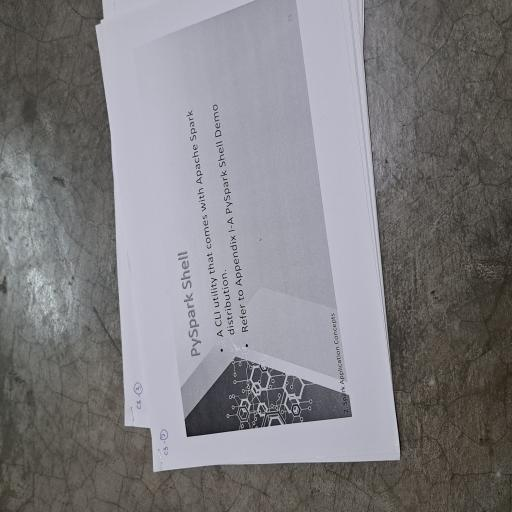paper: (31, 121, 384, 512)
